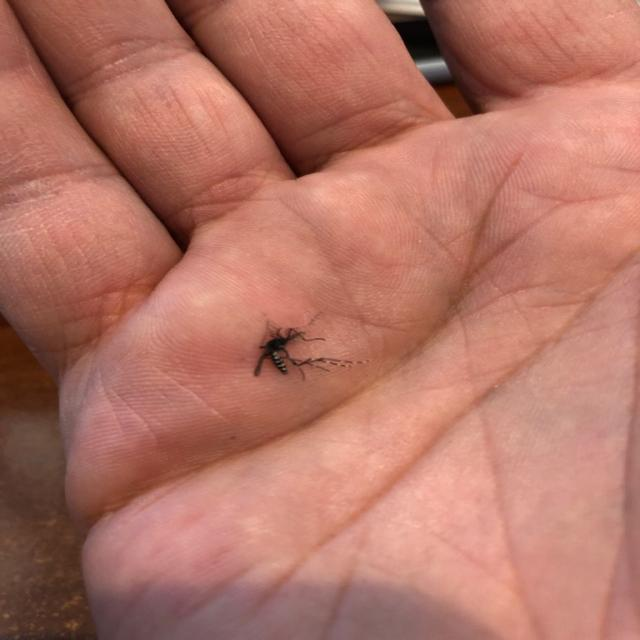albopictus: (242, 307, 366, 389)
